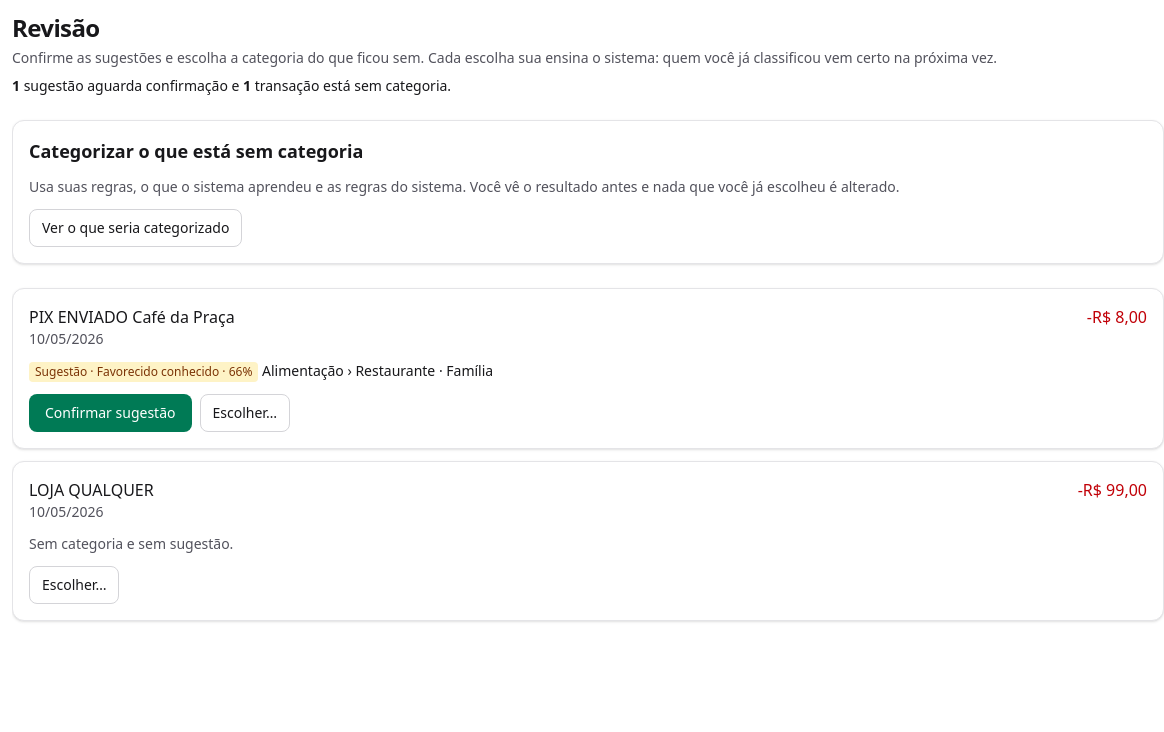
Test case: ReviewView › mostra a prévia da reclassificação e só então aplica o que foi visto
Step 1. Click the button "Ver o que seria categorizado" → (136, 228), box [29, 209, 242, 247]
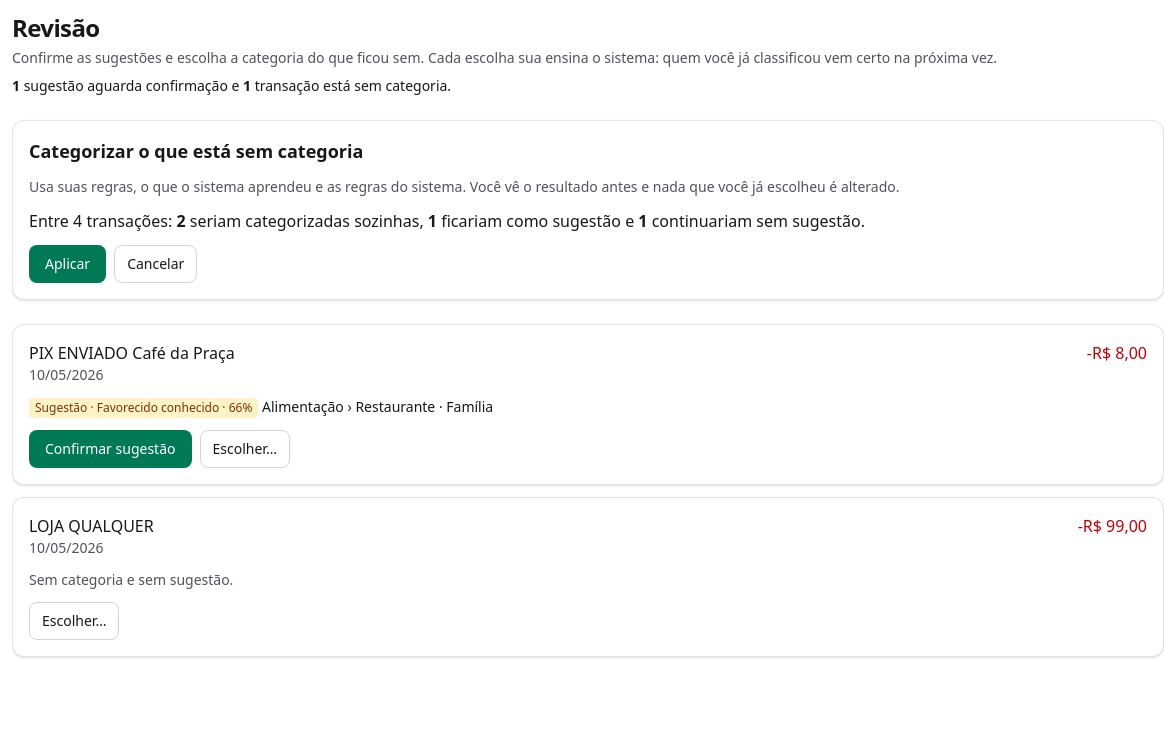
Expected: the text "seriam categorizadas sozinhas" shows "Entre 4 transações: 2 seriam categorizadas sozinhas, 1 ficariam como sugestão e 1 continuariam sem sugestão.", [29, 210, 865, 232]
Step 2. Click the button "Aplicar" → (68, 264), box [29, 245, 106, 283]
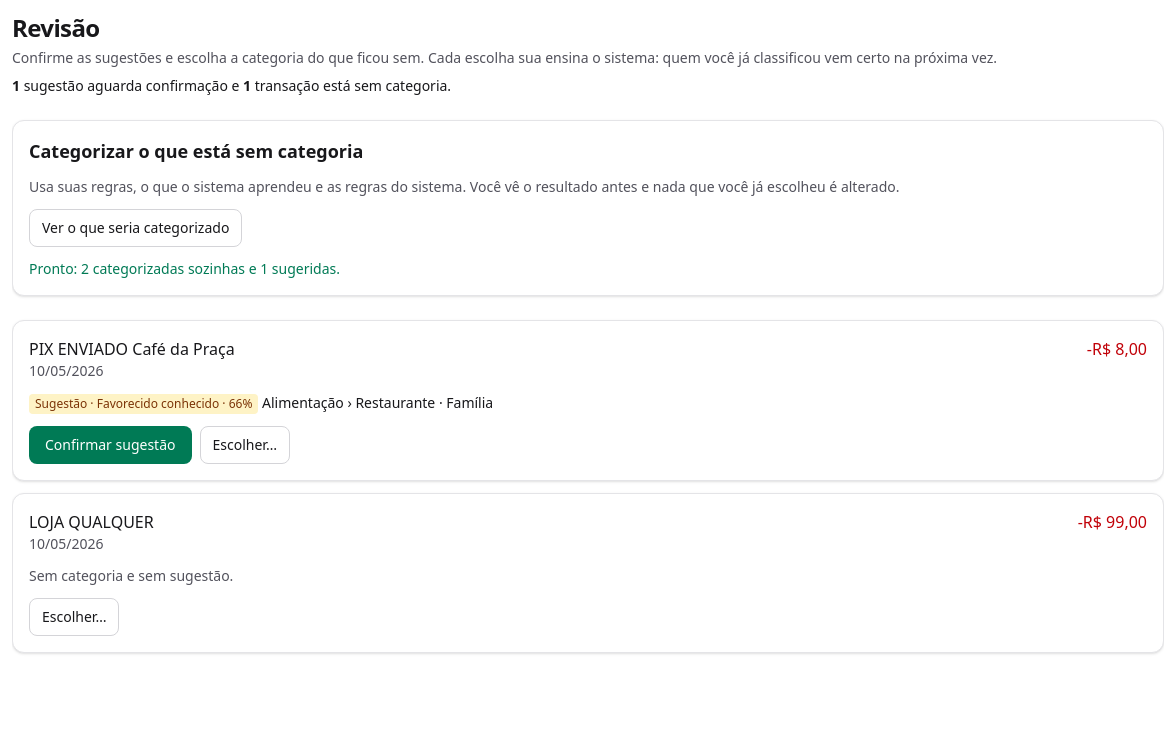
Expected: the message shows "2 categorizadas sozinhas e 1 sugeridas", [29, 259, 340, 278]
